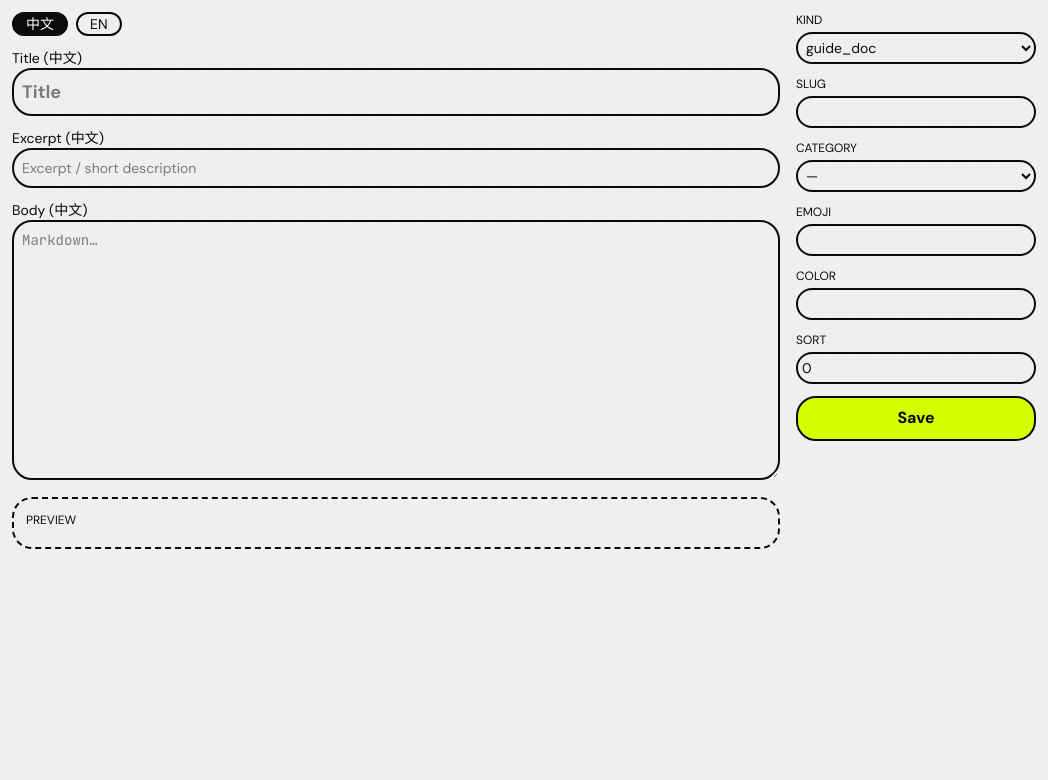
Test: D14 Academy authoring › labels title, excerpt and body, including the resource body
Select "resource" in the dropdown labelled "Kind": {"x": 916, "y": 48} top-left (796, 32), bottom-right (1036, 64)
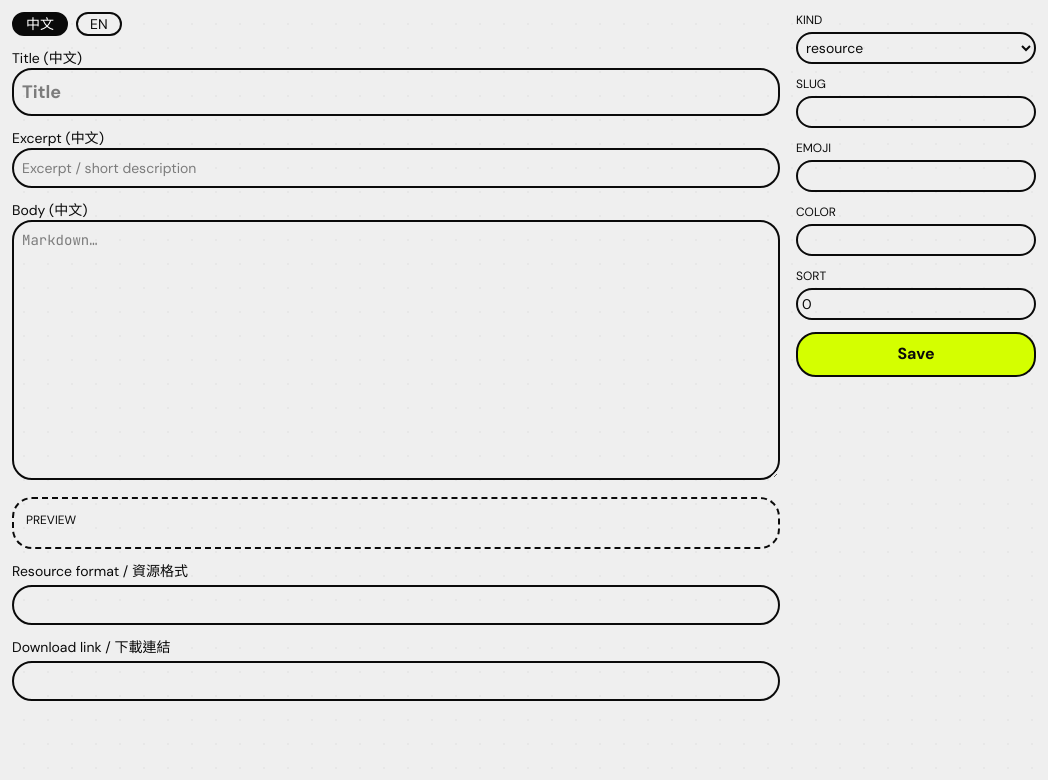
Expected: the field labelled "Title (中文)" is shown, top-left (12, 68), bottom-right (780, 116)
Expected: the field labelled "Excerpt (中文)" is shown, top-left (12, 148), bottom-right (780, 188)
In the text box labelled "Body (中文)": {"x": 396, "y": 350} top-left (12, 220), bottom-right (780, 480), type "## 可閱讀的資源正文"
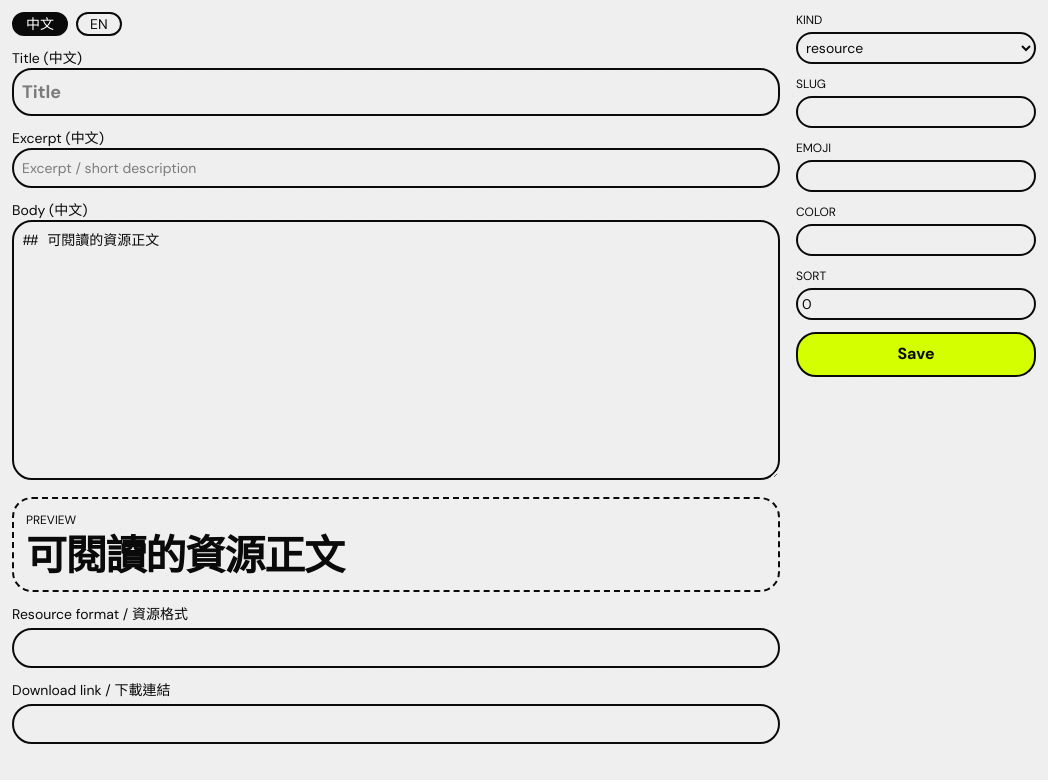
Now the heading "可閱讀的資源正文" is shown, box top-left (26, 530), bottom-right (344, 582)
